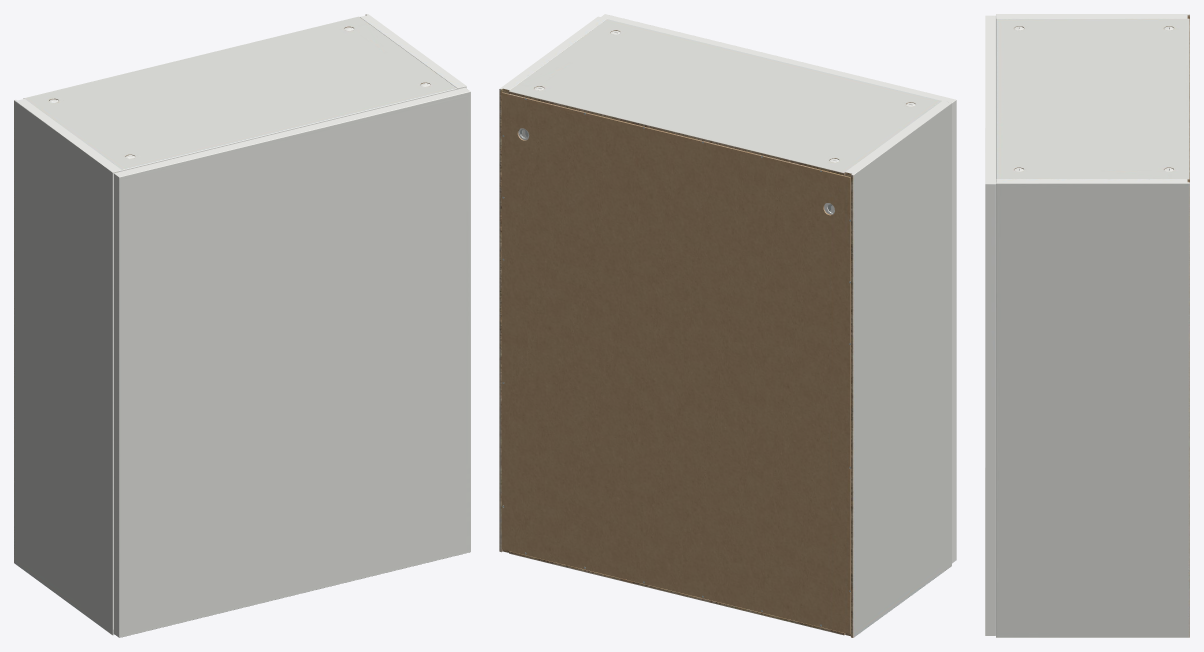
The model's file is knoxhult_szafka_wiszaca_z_drzwiczkami_40496310.glb.
3 renders of one model, left to right at view 1: azimuth 30°, elevation 25°; view 2: azimuth 150°, elevation 25°; view 3: azimuth 270°, elevation 25°, orthographic.
Parts seen in each view (by area): view 1: knoxhult_szafka_wiszaca_z_drzwiczkami_40496310; view 2: knoxhult_szafka_wiszaca_z_drzwiczkami_40496310; view 3: knoxhult_szafka_wiszaca_z_drzwiczkami_40496310.
Part boxes in pixels (x1=…): knoxhult_szafka_wiszaca_z_drzwiczkami_40496310: x1=14, y1=14, x2=470, y2=637; knoxhult_szafka_wiszaca_z_drzwiczkami_40496310: x1=499, y1=14, x2=956, y2=637; knoxhult_szafka_wiszaca_z_drzwiczkami_40496310: x1=985, y1=14, x2=1189, y2=637.
Bounding box in the file's own units: 0.6 × 0.75 × 0.3061.
Materials: 2 (2 with a texture image).
